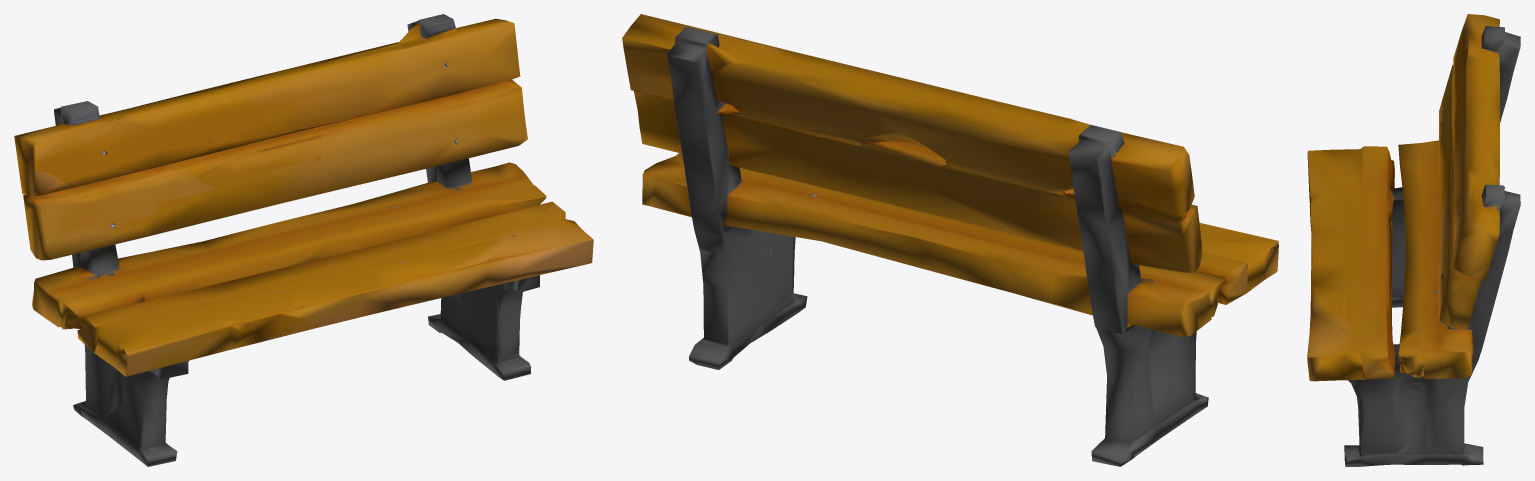
The model's file is woodenpark.glb.
3 views of the same model, side by side, from view 1: azimuth 30°, elevation 25°; view 2: azimuth 150°, elevation 25°; view 3: azimuth 270°, elevation 25° (orthographic). The views are drawn at different scales.
Visible parts, largest first — view 1: tripo_node_ebf613de-3558-4162-bf6d-6fcb4fd26f70; view 2: tripo_node_ebf613de-3558-4162-bf6d-6fcb4fd26f70; view 3: tripo_node_ebf613de-3558-4162-bf6d-6fcb4fd26f70.
Part boxes in pixels (x1,y1,x2,y2): tripo_node_ebf613de-3558-4162-bf6d-6fcb4fd26f70: (14, 14, 593, 466); tripo_node_ebf613de-3558-4162-bf6d-6fcb4fd26f70: (622, 14, 1278, 466); tripo_node_ebf613de-3558-4162-bf6d-6fcb4fd26f70: (1307, 14, 1520, 466).
Bounding box in the file's own units: 0.9814 × 0.5777 × 0.4125.
Materials: 1 (1 with a texture image).
